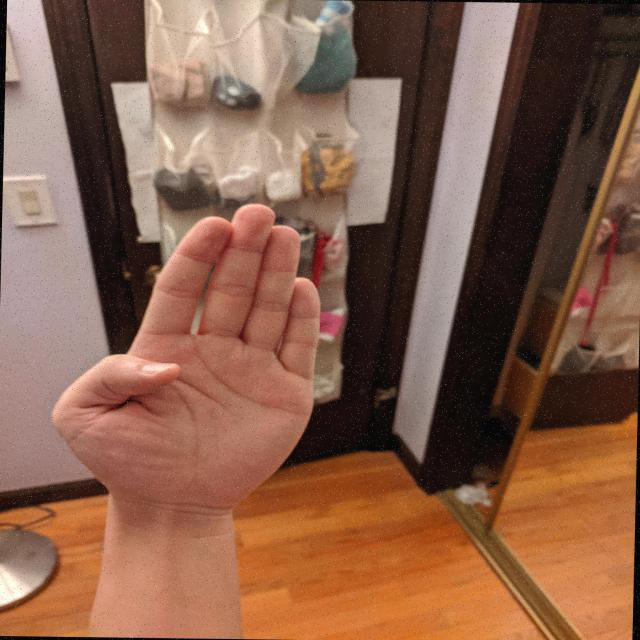B: (41, 195, 334, 514)
